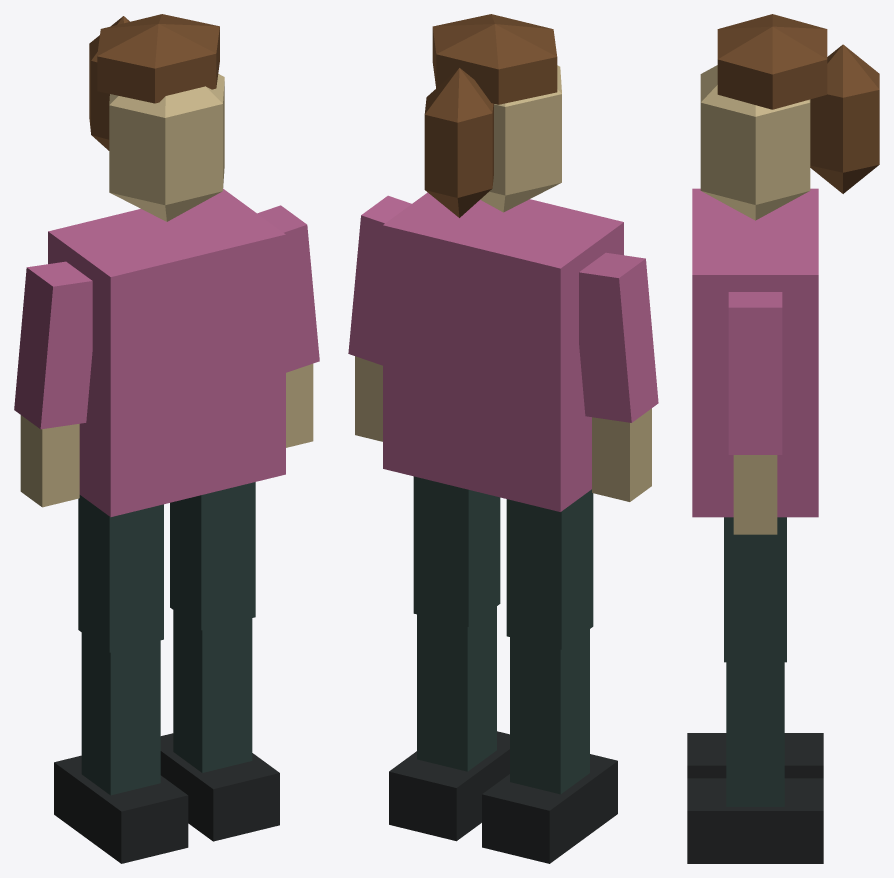
File: TownVisitor0.obj
The picture shows the model from 3 angles, left to right: view 1: azimuth 30°, elevation 25°; view 2: azimuth 150°, elevation 25°; view 3: azimuth 270°, elevation 25°; orthographic projection.
Parts seen in each view (by area): view 1: TownVisitor0; view 2: TownVisitor0; view 3: TownVisitor0.
Part boxes in pixels (left/top/right/bottom): TownVisitor0: left=14, top=14, right=319, bottom=863; TownVisitor0: left=348, top=14, right=658, bottom=863; TownVisitor0: left=687, top=14, right=879, bottom=863.
Bounding box in the file's own units: 0.6695 × 1.81 × 0.395.
1 material, 1 textured.
